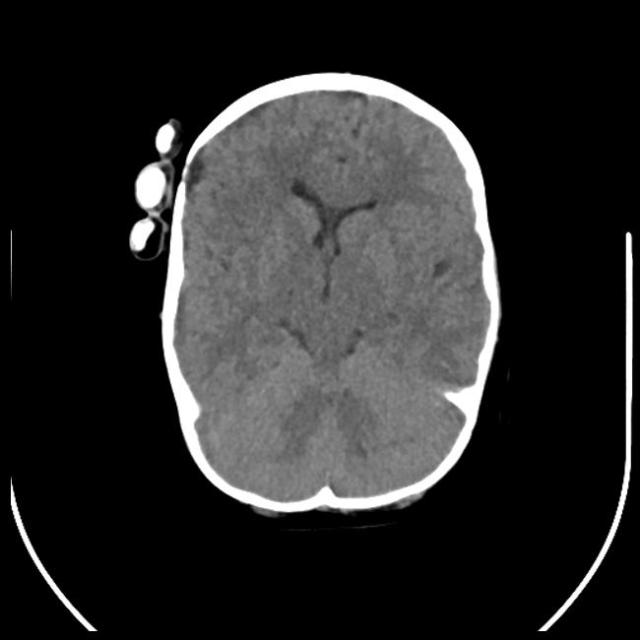lesion: (420, 332, 506, 445)
